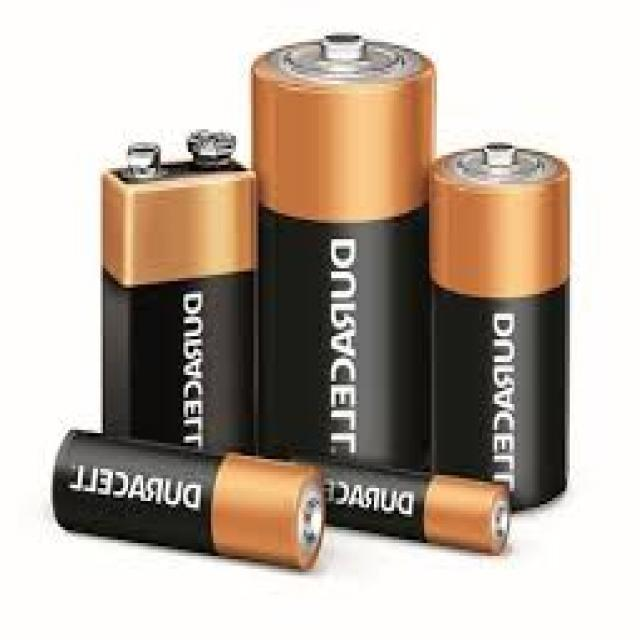battery: (252, 30, 436, 467), (437, 130, 572, 516), (99, 125, 254, 441), (54, 426, 322, 571), (283, 456, 509, 554)
